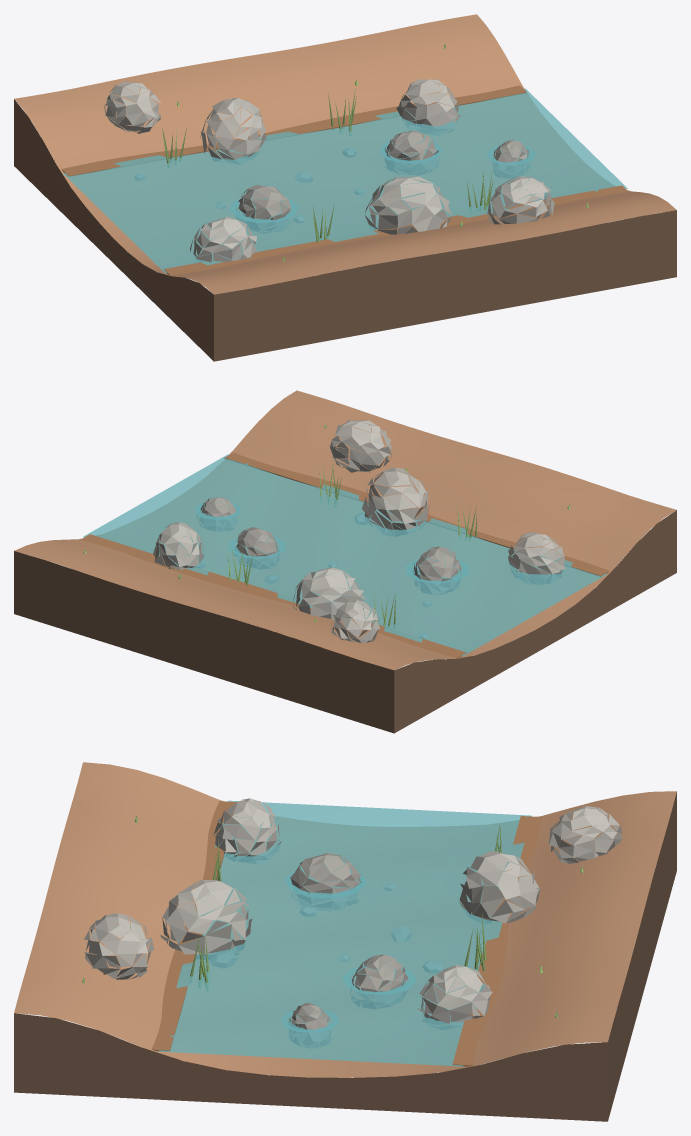
File: south_indian_village_river_section_8x8.glb
3 renders of one model, top to bottom at view 1: azimuth 30°, elevation 25°; view 2: azimuth 150°, elevation 25°; view 3: azimuth 270°, elevation 25°, orthographic. The views are drawn at different scales.
Parts seen in each view (by area): view 1: Riverbed_And_Laterite_Banks, Shallow_River_Water_Surface, River_Foundation_Skirt, River_Granite_Boulders; view 2: Riverbed_And_Laterite_Banks, Shallow_River_Water_Surface, River_Foundation_Skirt, River_Granite_Boulders; view 3: Riverbed_And_Laterite_Banks, Shallow_River_Water_Surface, River_Foundation_Skirt, River_Granite_Boulders.
Boxes of the visible parts, x1=… form: Riverbed_And_Laterite_Banks: x1=14, y1=14, x2=676, y2=294; Shallow_River_Water_Surface: x1=63, y1=88, x2=627, y2=273; River_Foundation_Skirt: x1=14, y1=99, x2=676, y2=361; River_Granite_Boulders: x1=104, y1=79, x2=554, y2=262; Riverbed_And_Laterite_Banks: x1=14, y1=390, x2=676, y2=670; Shallow_River_Water_Surface: x1=83, y1=454, x2=607, y2=655; River_Foundation_Skirt: x1=14, y1=510, x2=676, y2=733; River_Granite_Boulders: x1=153, y1=420, x2=565, y2=642; Riverbed_And_Laterite_Banks: x1=14, y1=762, x2=676, y2=1077; Shallow_River_Water_Surface: x1=159, y1=800, x2=531, y2=1066; River_Foundation_Skirt: x1=14, y1=792, x2=676, y2=1121; River_Granite_Boulders: x1=84, y1=798, x2=622, y2=1047.
Bounding box in the file's own units: 8.87 × 1.63 × 8.87.
